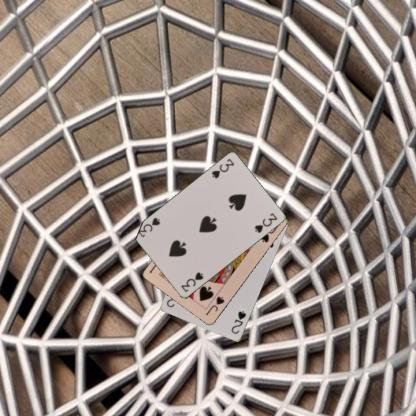2s: (229, 308, 247, 336)
3s: (208, 156, 236, 180), (178, 270, 204, 293)
Js: (203, 294, 225, 317)
